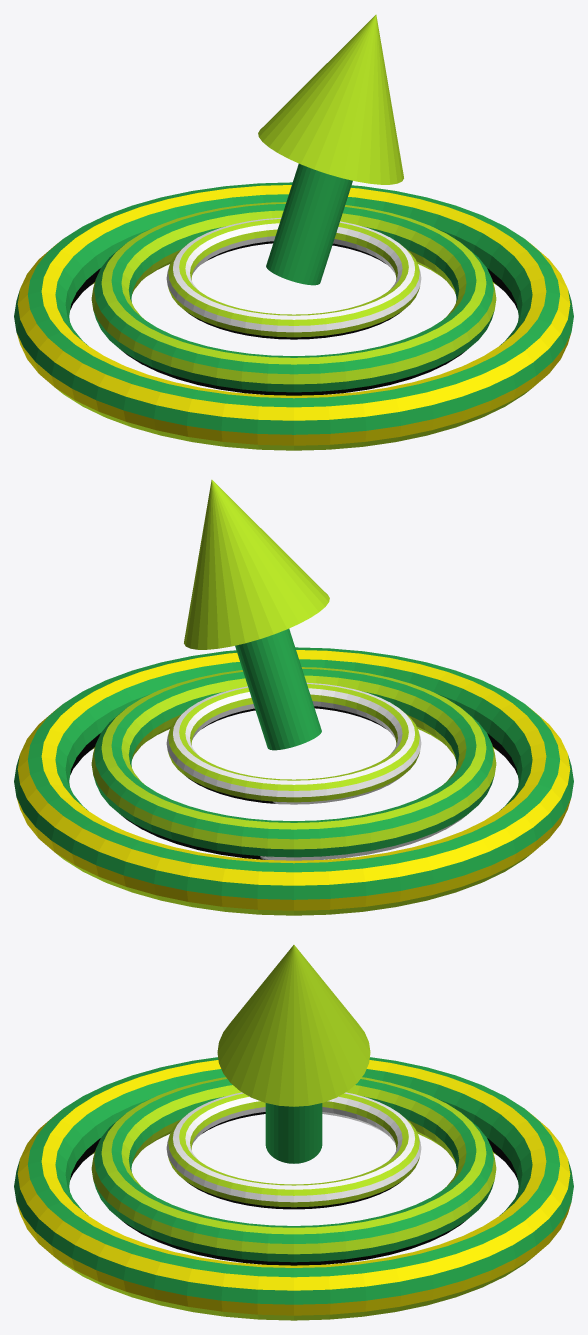
The model's file is JumpPad.fbx.
3 renders of one model, top to bottom at view 1: azimuth 30°, elevation 25°; view 2: azimuth 150°, elevation 25°; view 3: azimuth 270°, elevation 25°, orthographic.
Parts seen in each view (by area): view 1: Torus.003; view 2: Torus.003; view 3: Torus.003.
Part boxes in pixels (left/top/right/bottom): Torus.003: left=14, top=14, right=573, bottom=450; Torus.003: left=14, top=479, right=573, bottom=915; Torus.003: left=14, top=945, right=573, bottom=1320.
Size of the model in its own units: 142 by 85.95 by 142.
1 material, 1 textured.
